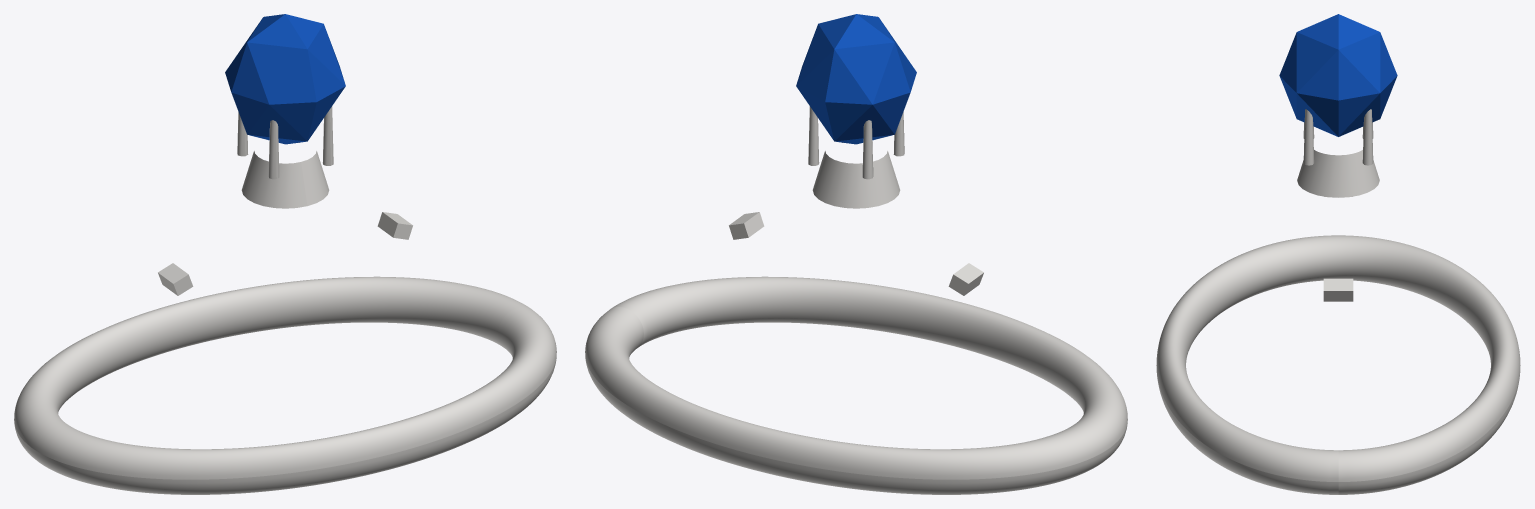
File: ring-sapphire.glb
3 renders of one model, left to right at view 1: azimuth 30°, elevation 25°; view 2: azimuth 150°, elevation 25°; view 3: azimuth 270°, elevation 25°, orthographic. The views are drawn at different scales.
Bounding box in the file's own units: 1.87 × 1.39 × 1.23.
